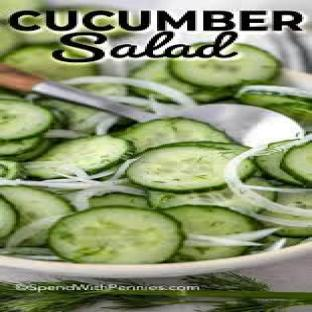Cucumber: (49, 207, 183, 264), (127, 146, 243, 192), (170, 44, 279, 87), (27, 135, 134, 178), (131, 60, 233, 102), (115, 118, 229, 152), (3, 45, 98, 80), (236, 86, 311, 126), (0, 186, 72, 227), (164, 206, 257, 236), (147, 189, 261, 212), (37, 99, 112, 133), (0, 100, 52, 140), (23, 15, 88, 44), (256, 152, 301, 185), (282, 143, 311, 183), (11, 139, 52, 161), (91, 193, 148, 208), (0, 137, 42, 156), (0, 198, 18, 238), (192, 88, 233, 103), (79, 83, 126, 96), (0, 25, 20, 55), (264, 211, 311, 221), (0, 160, 22, 178), (0, 89, 22, 99)
